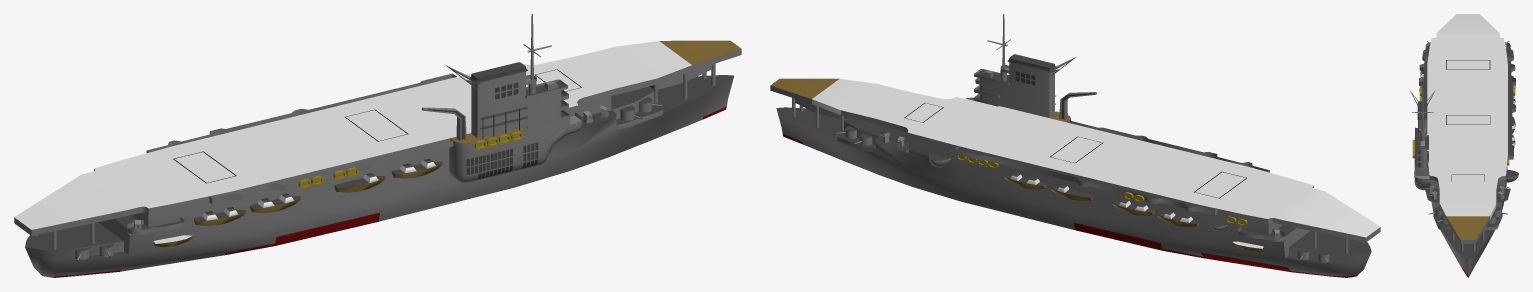
The model's file is carrier.glb.
3 renders of one model, left to right at view 1: azimuth 30°, elevation 25°; view 2: azimuth 150°, elevation 25°; view 3: azimuth 270°, elevation 25°, orthographic. The views are drawn at different scales.
Visible parts, largest first — view 1: Carrier; view 2: Carrier; view 3: Carrier.
Part boxes in pixels (left/top/right/bottom): Carrier: left=14, top=14, right=741, bottom=277; Carrier: left=770, top=14, right=1380, bottom=277; Carrier: left=1409, top=14, right=1518, bottom=277.
Bounding box in the file's own units: 183 × 43.23 × 37.03.
